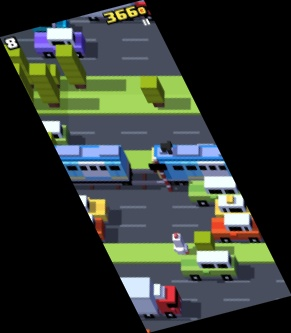car: (30, 27, 87, 59), (189, 177, 245, 207), (182, 251, 238, 281), (212, 213, 264, 243), (53, 213, 105, 240), (59, 195, 108, 220), (23, 11, 69, 35), (214, 194, 259, 217)
duck: (172, 232, 190, 255)
light off: (149, 157, 175, 193)
rail: (60, 168, 245, 192)
train: (151, 143, 239, 184), (51, 144, 135, 186)
tree: (3, 63, 38, 115), (27, 63, 60, 106), (55, 45, 87, 89), (2, 45, 34, 86), (140, 76, 166, 110), (39, 63, 63, 88)
truck: (104, 277, 182, 319), (77, 1, 159, 25)
